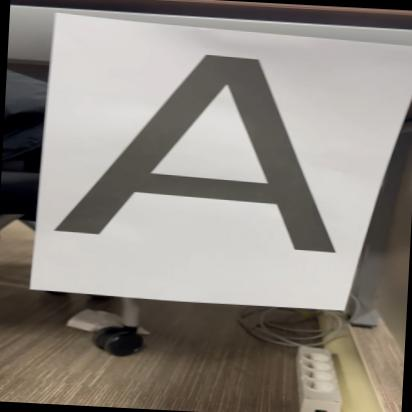seat: (62, 41, 358, 258)
